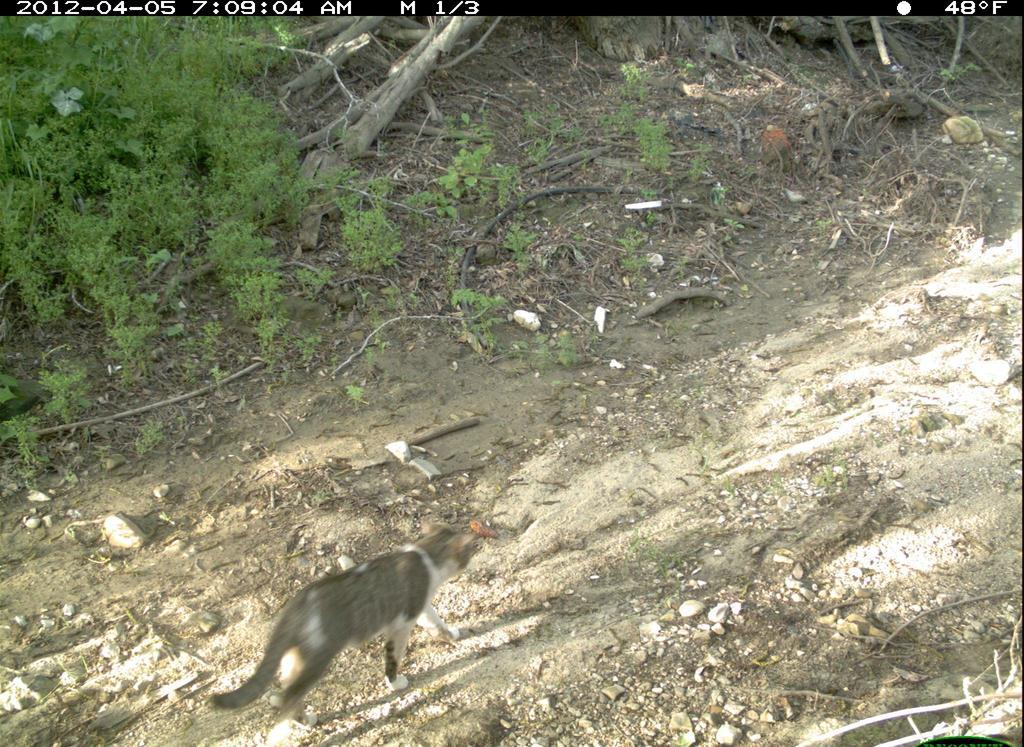cat: (194, 505, 475, 738)
